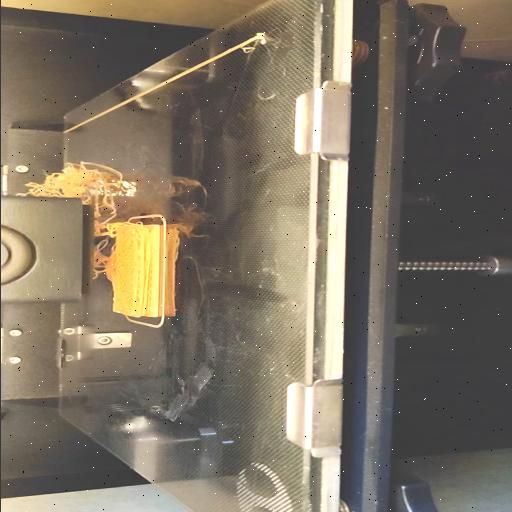spaghetti: (80, 195, 122, 288), (17, 162, 126, 196)
